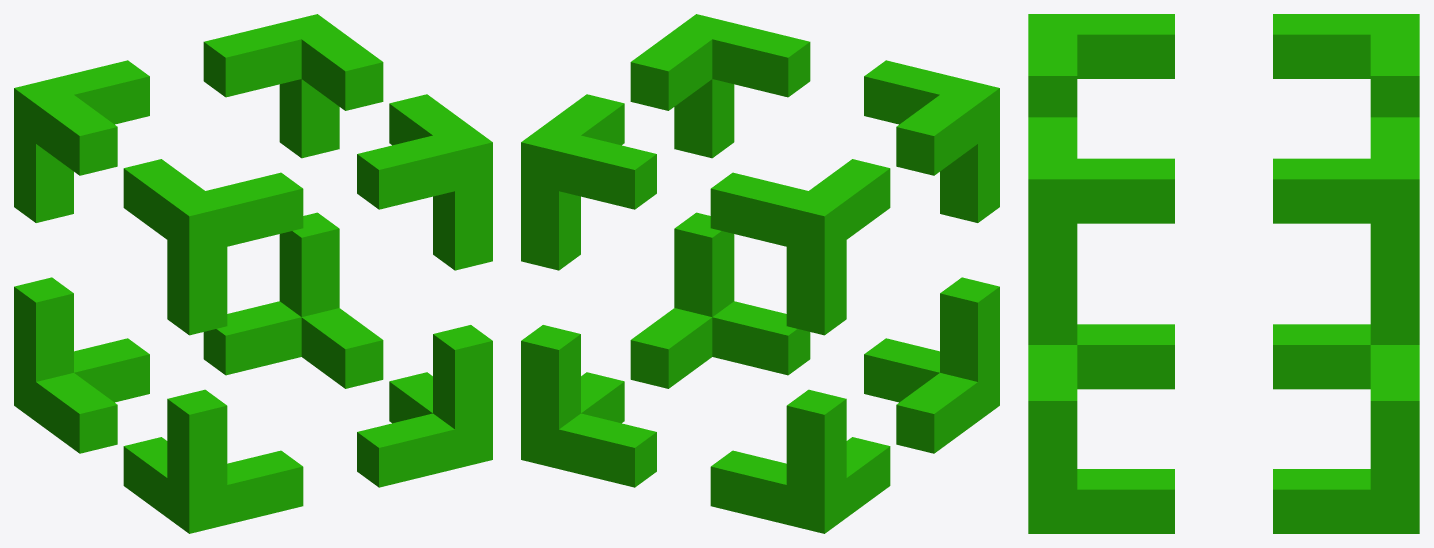
The model's file is Selection3D.fbx.
3 renders of one model, left to right at view 1: azimuth 30°, elevation 25°; view 2: azimuth 150°, elevation 25°; view 3: azimuth 270°, elevation 25°, orthographic. The views are drawn at different scales.
Parts seen in each view (by area): view 1: Selection3D; view 2: Selection3D; view 3: Selection3D.
Boxes of the visible parts, x1,y1,x2,y2 form: Selection3D: (14,14,492,533); Selection3D: (521,14,999,533); Selection3D: (1028,14,1419,533).
Size of the model in its own units: 30 by 30 by 30.
